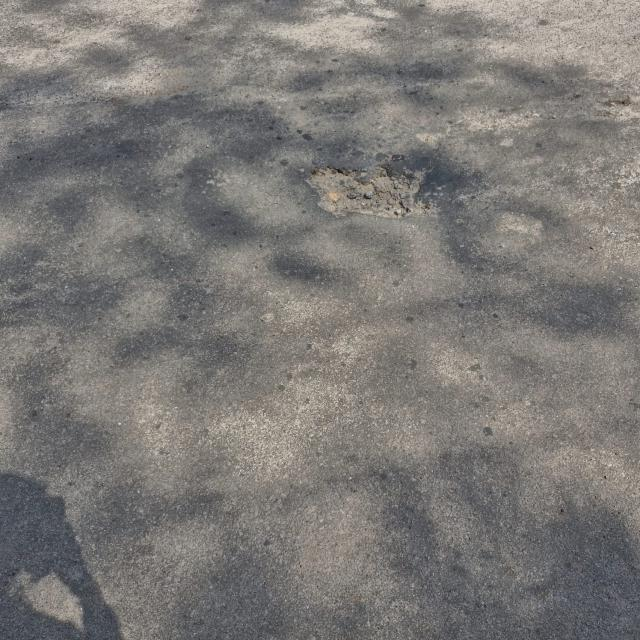pothole: (306, 165, 436, 218)
